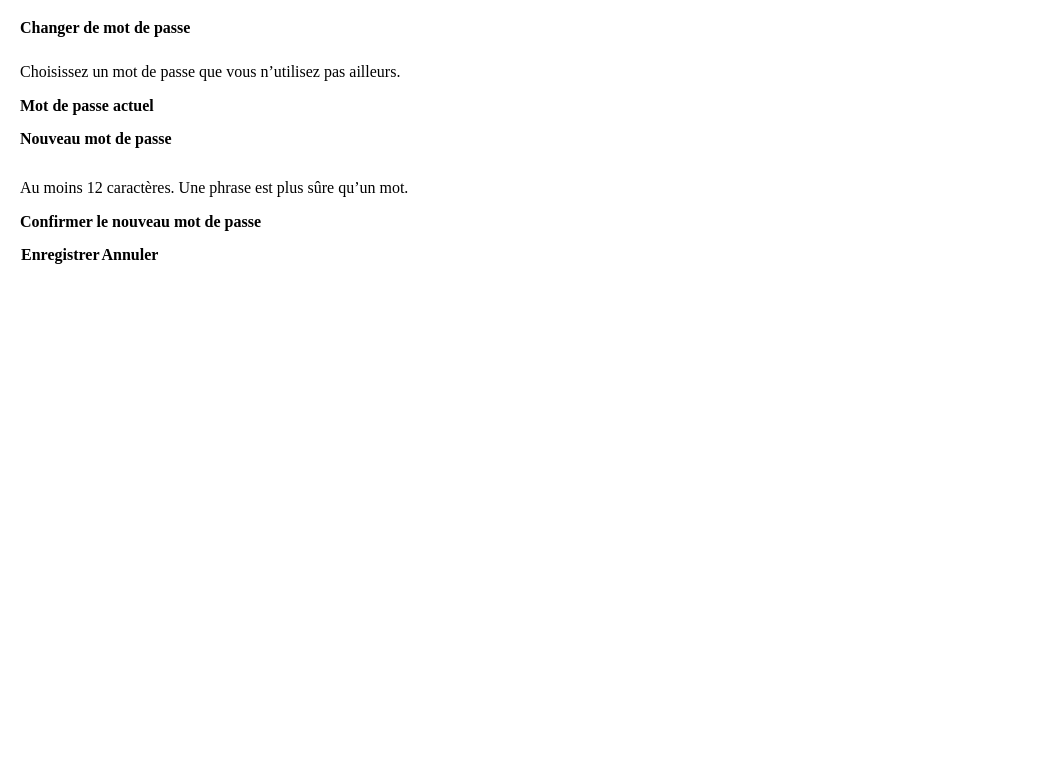
Scenario: ChangePasswordPage › sends the change and confirms it
This screenshot has width=1048, height=768.
Type "le-mot-de-passe-actuel" into the password field labelled "Mot de passe actuel" at coordinates (524, 123), box top-left (20, 115), bottom-right (1028, 130)
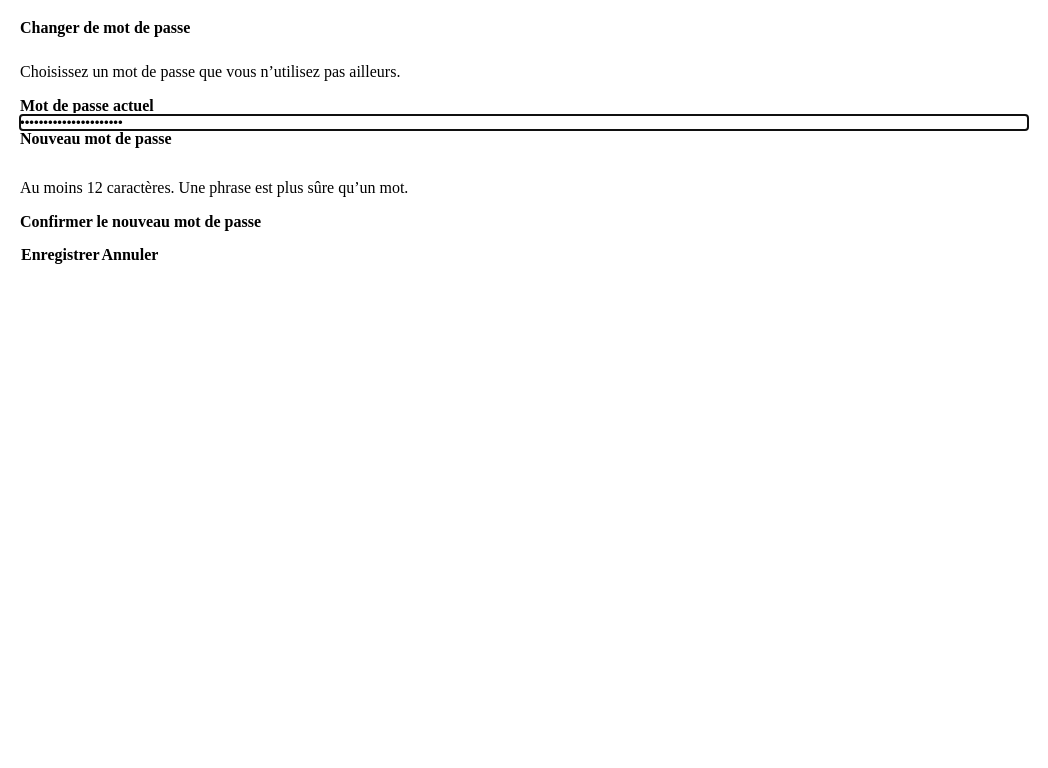
Type "une-phrase-de-passe-solide" into the password field labelled "Nouveau mot de passe" at coordinates (524, 156), box top-left (20, 148), bottom-right (1028, 163)
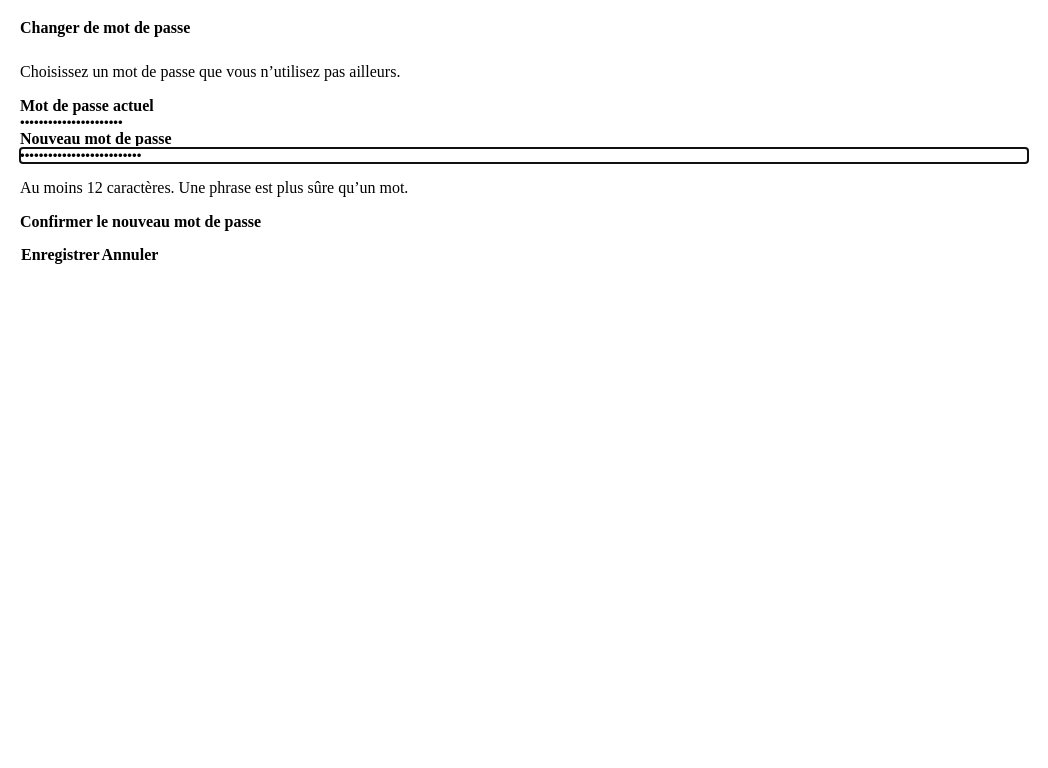
Type "une-phrase-de-passe-solide" into the password field labelled "Confirmer le nouveau mot de passe" at coordinates (524, 239), box top-left (20, 231), bottom-right (1028, 246)
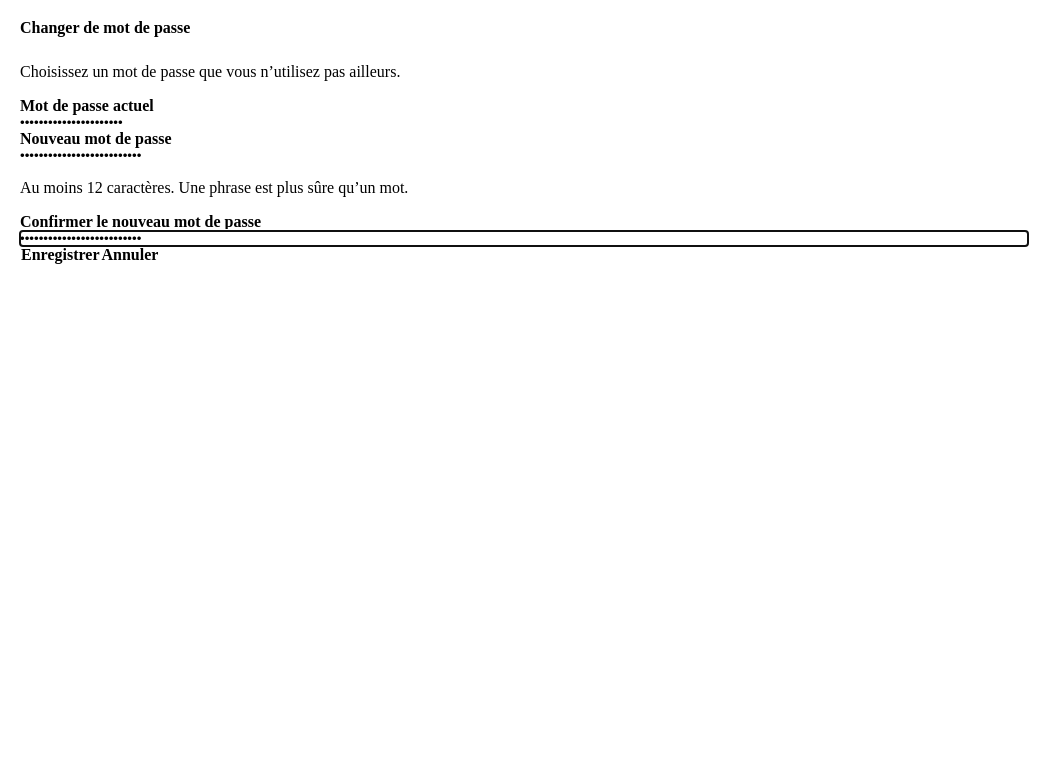
Click the button "Enregistrer" at coordinates (60, 255), box top-left (20, 246), bottom-right (100, 264)
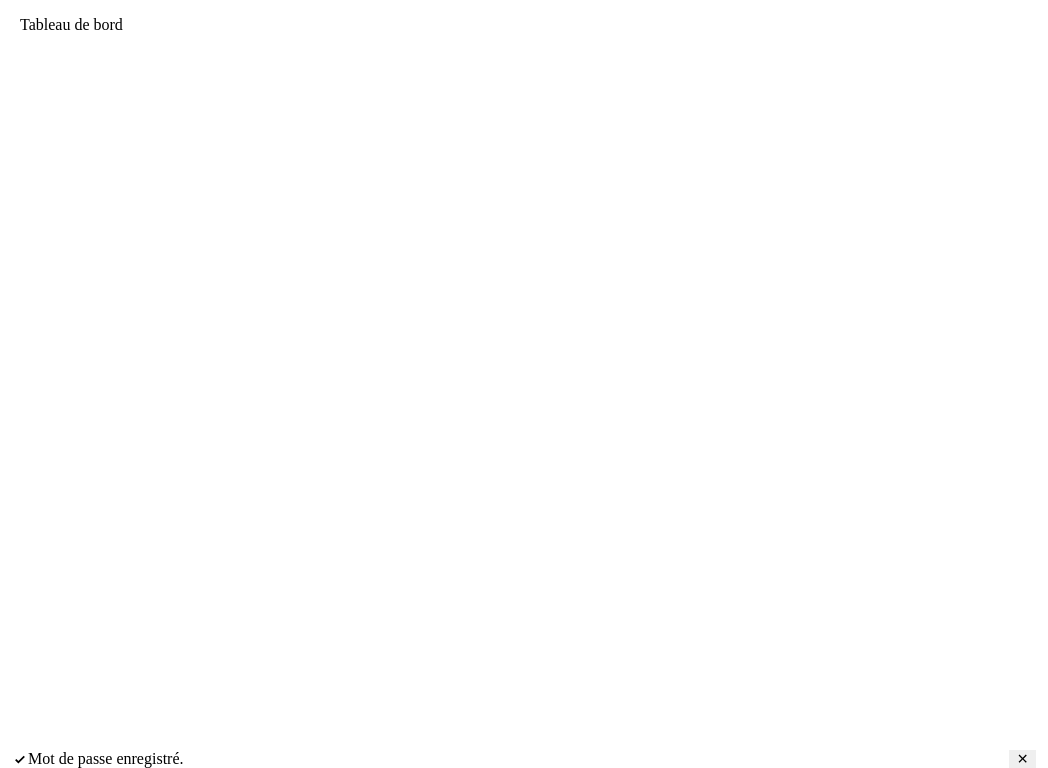
Result: the text "Mot de passe enregistré." is shown at top-left (28, 750), bottom-right (184, 767)
Result: the text "Tableau de bord" is shown at top-left (20, 16), bottom-right (123, 33)
